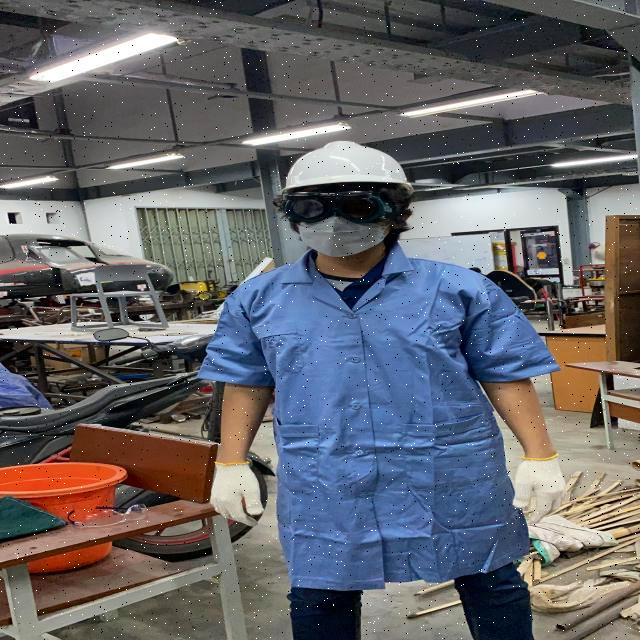Hard_hat: (280, 140, 414, 204)
Person: (201, 140, 565, 640)
